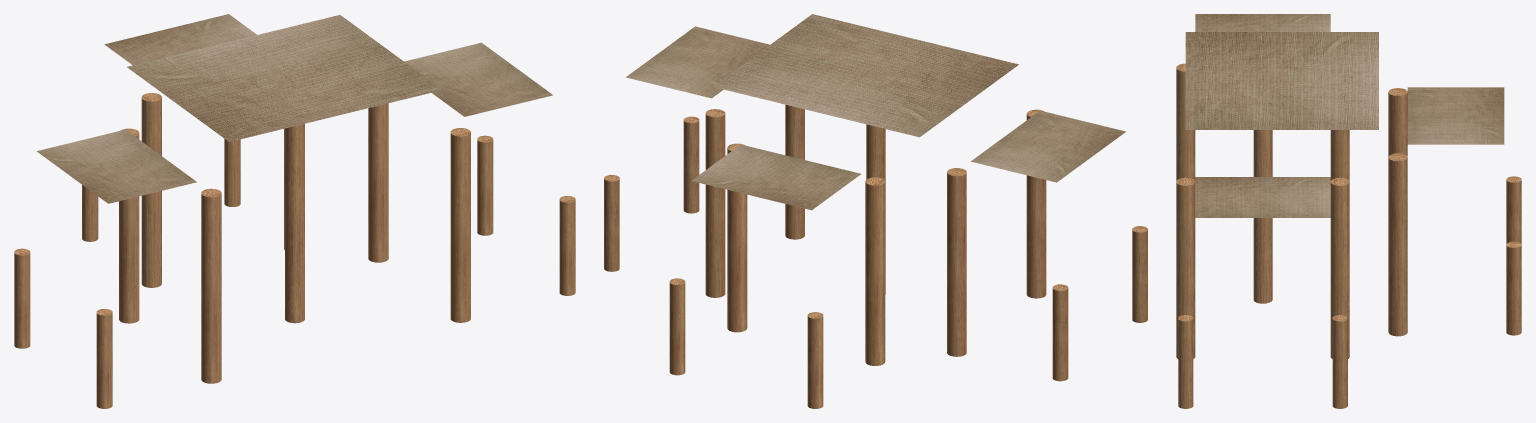
Rendered from Tent2_1.0.fbx.
3 views of the same model, side by side, from view 1: azimuth 30°, elevation 25°; view 2: azimuth 150°, elevation 25°; view 3: azimuth 270°, elevation 25° (orthographic). The views are drawn at different scales.
Parts seen in each view (by area): view 1: Poles, Tent_main, Tent_sub_1, Tent_sub_2, Tent_sub_3; view 2: Poles, Tent_main, Tent_sub_3, Tent_sub_1, Tent_sub_2; view 3: Poles, Tent_main, Tent_sub_3, Tent_sub_2, Tent_sub_1.
Boxes of the visible parts, x1,y1,x2,y2 form: Poles: [14, 93, 575, 408]; Tent_main: [127, 15, 442, 141]; Tent_sub_1: [36, 129, 196, 203]; Tent_sub_2: [404, 42, 552, 116]; Tent_sub_3: [104, 14, 256, 65]; Poles: [604, 104, 1147, 408]; Tent_main: [713, 14, 1018, 137]; Tent_sub_3: [691, 144, 860, 210]; Tent_sub_1: [971, 110, 1125, 182]; Tent_sub_2: [626, 26, 769, 98]; Poles: [1176, 63, 1521, 408]; Tent_main: [1185, 32, 1378, 129]; Tent_sub_3: [1407, 87, 1504, 144]; Tent_sub_2: [1195, 177, 1330, 217]; Tent_sub_1: [1195, 14, 1330, 31].
Bounding box in the file's own units: 268 × 125 × 179.
2 materials, 2 textured.
